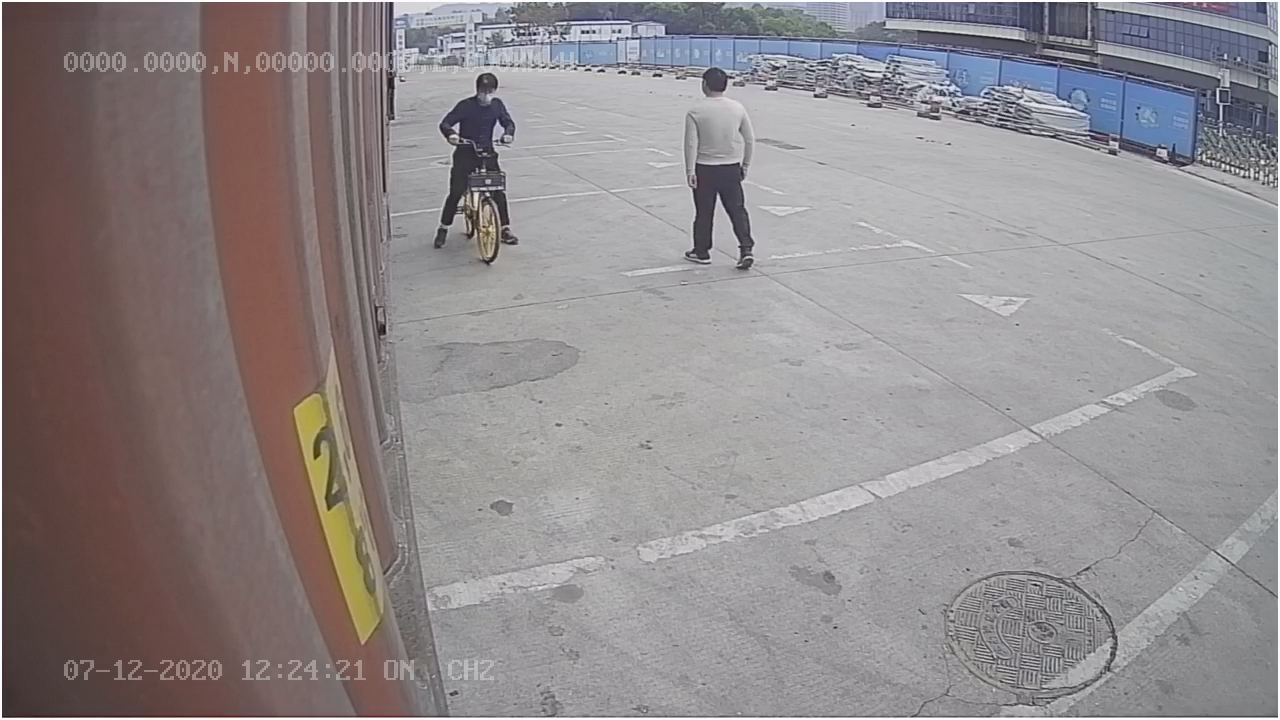person: (675, 62, 761, 273)
